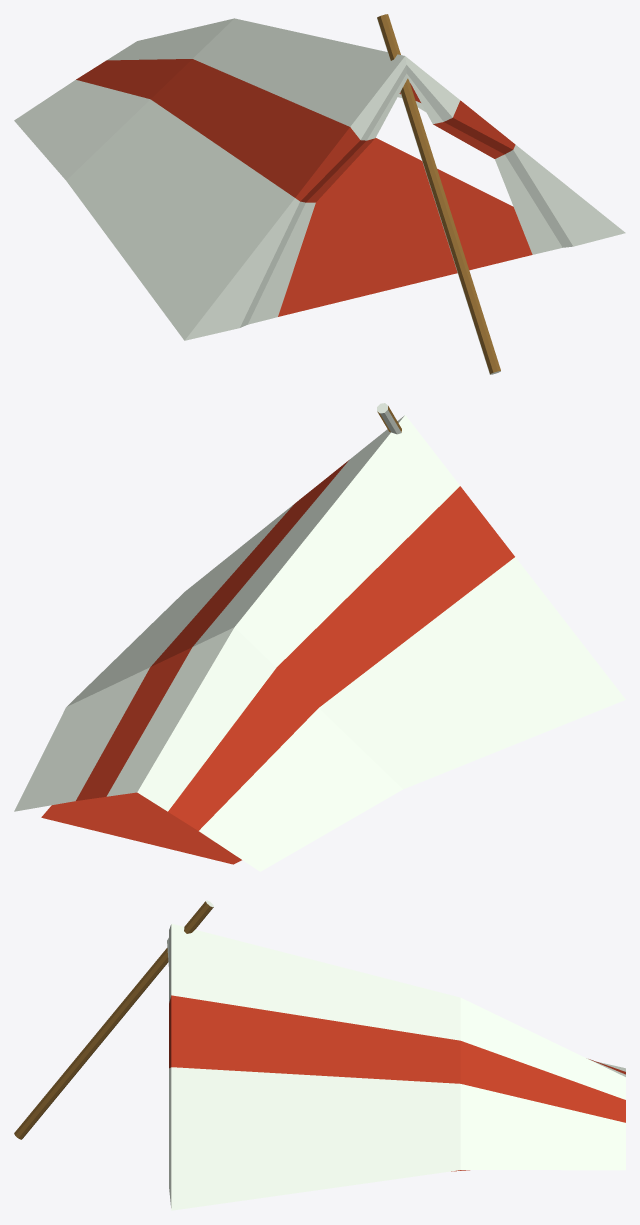
Rendered from Tent_S_Red.fbx.
3 renders of one model, top to bottom at view 1: azimuth 30°, elevation 25°; view 2: azimuth 150°, elevation 25°; view 3: azimuth 270°, elevation 25°, orthographic. The views are drawn at different scales.
Parts seen in each view (by area): view 1: Tent_S_Red; view 2: Tent_S_Red; view 3: Tent_S_Red.
Boxes of the visible parts, x1,y1,x2,y2 form: Tent_S_Red: [14, 14, 625, 374]; Tent_S_Red: [14, 403, 625, 871]; Tent_S_Red: [14, 900, 625, 1210].
Bounding box in the file's own units: 283 × 172 × 400.
